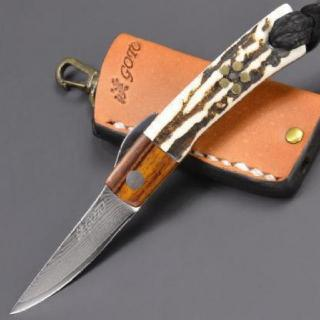knife: (7, 162, 145, 316)
